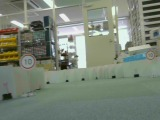speed_10: (19, 54, 36, 70), (145, 50, 155, 61)
